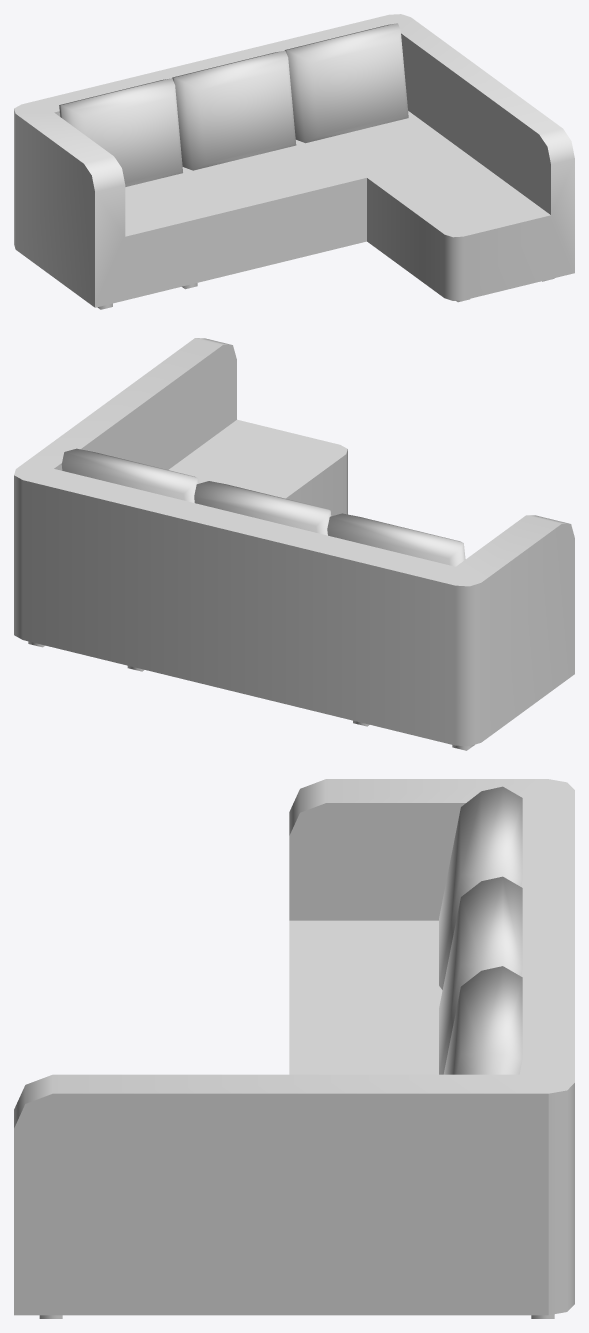
Rendered from Couch.fbx.
The picture shows the model from 3 angles, top to bottom: view 1: azimuth 30°, elevation 25°; view 2: azimuth 150°, elevation 25°; view 3: azimuth 270°, elevation 25°; orthographic projection. The views are drawn at different scales.
Parts seen in each view (by area): view 1: Couch; view 2: Couch; view 3: Couch.
Part boxes in pixels (left/top/right/bottom): Couch: left=14, top=14, right=574, bottom=309; Couch: left=14, top=338, right=574, bottom=750; Couch: left=14, top=779, right=574, bottom=1318.
Size of the model in its own units: 2.32 by 0.8698 by 1.75.
